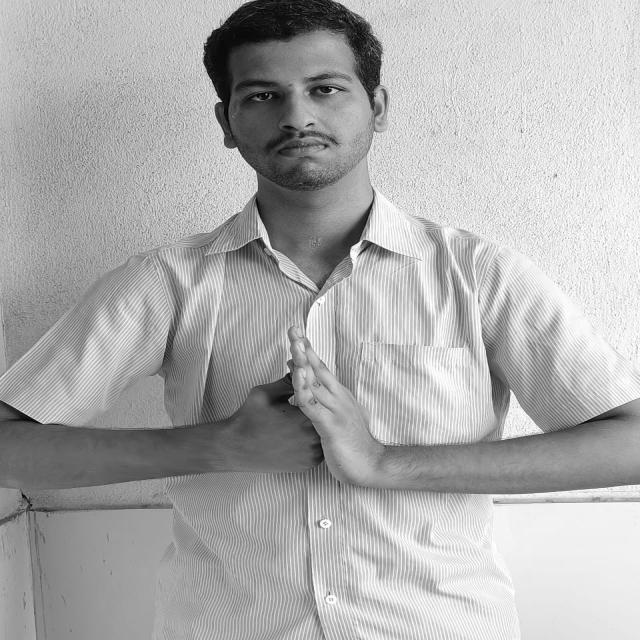Well Done: (235, 322, 366, 494)
